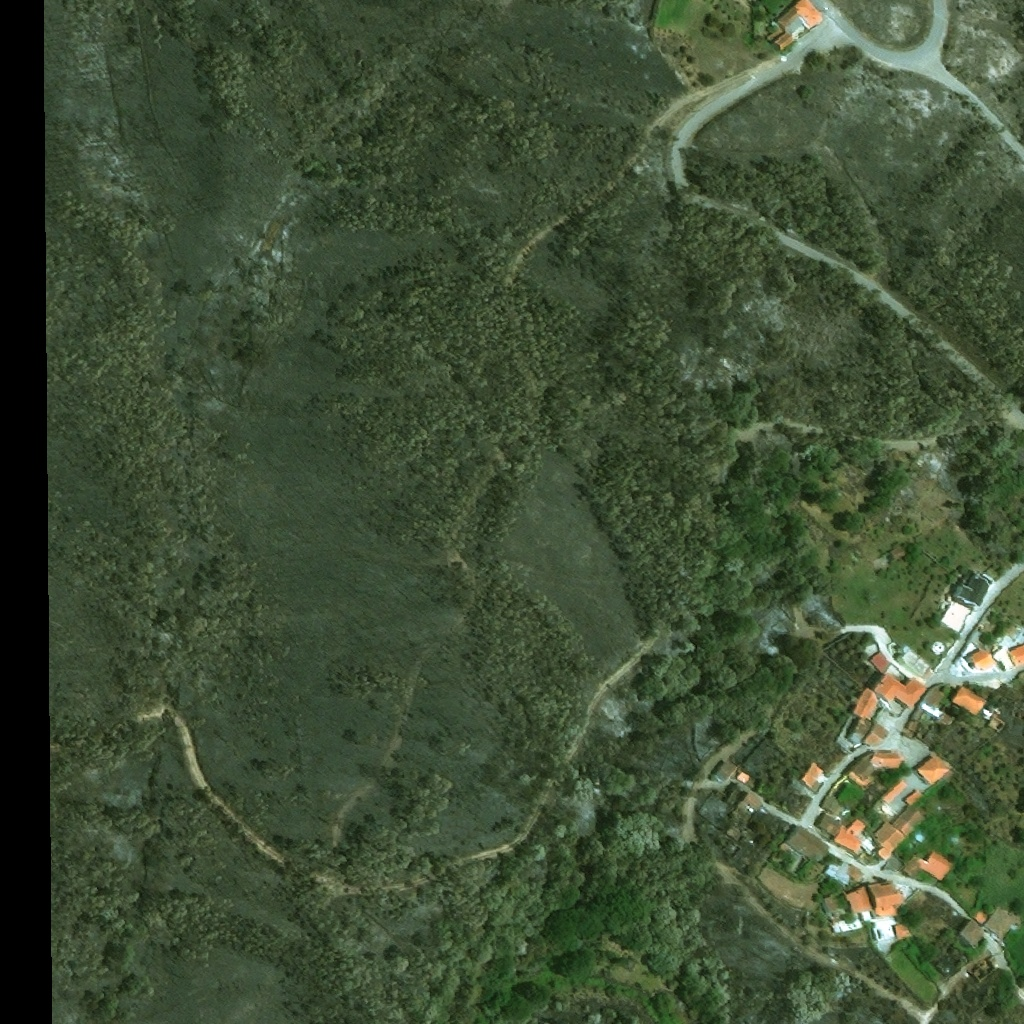0 no-damage: (774, 0, 825, 52), (847, 752, 907, 789), (872, 674, 929, 708), (945, 572, 994, 610), (784, 824, 830, 864), (868, 879, 909, 916), (872, 822, 907, 861), (984, 905, 1022, 939), (900, 644, 934, 679), (919, 848, 955, 881), (916, 753, 952, 786), (834, 818, 867, 854), (951, 686, 988, 717), (852, 687, 884, 722), (890, 806, 925, 836), (940, 603, 972, 634), (957, 918, 986, 950), (843, 884, 873, 914), (822, 861, 855, 887), (801, 761, 828, 790), (861, 723, 890, 750), (847, 717, 874, 746), (880, 778, 907, 805), (815, 812, 842, 839), (711, 757, 738, 783), (991, 646, 1016, 673), (970, 647, 997, 671), (871, 916, 896, 941), (873, 799, 898, 823), (894, 921, 927, 939), (833, 917, 866, 935), (921, 698, 947, 720), (868, 650, 890, 673), (822, 893, 841, 916), (987, 714, 1008, 734), (820, 794, 840, 814), (904, 789, 924, 806), (1009, 644, 1023, 666), (1007, 624, 1023, 639), (890, 546, 905, 561), (944, 769, 954, 779), (850, 696, 860, 703)
1 minor-damage: (724, 792, 764, 839), (968, 953, 1000, 983)
